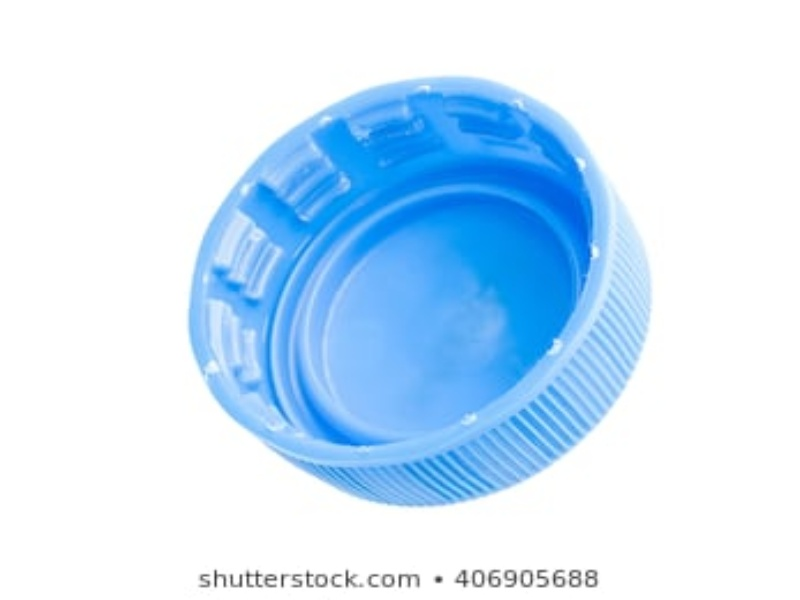bottle-cap: (186, 73, 654, 509)
